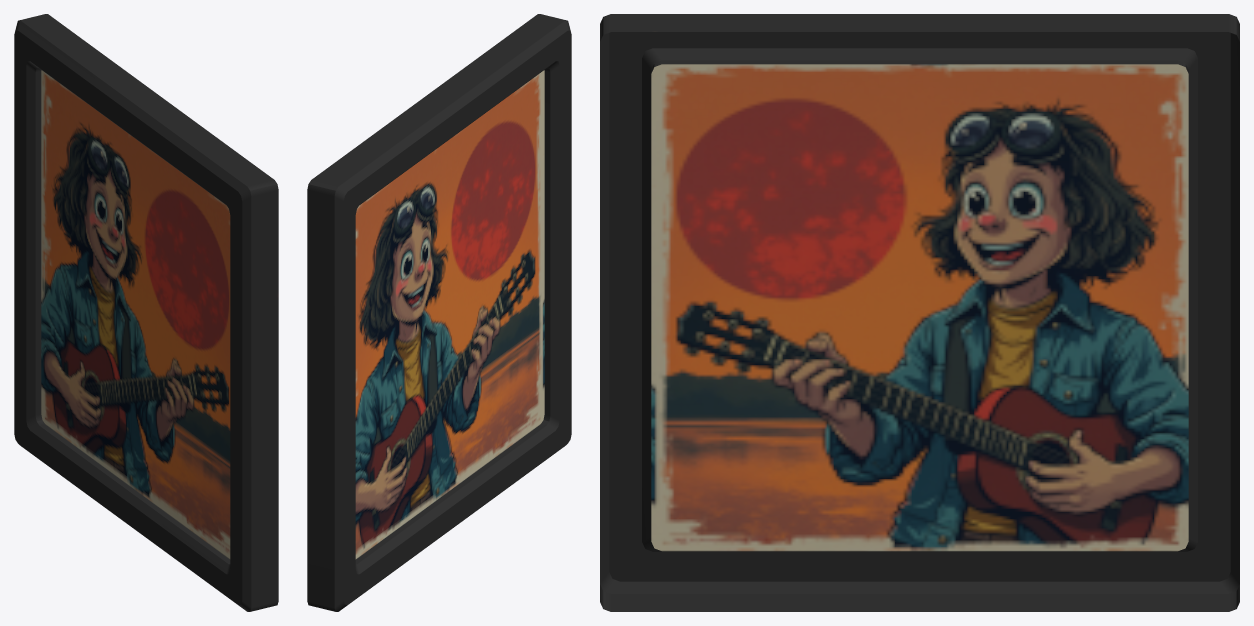
The model's file is SM_Frame.fbx.
The picture shows the model from 3 angles, left to right: view 1: azimuth 30°, elevation 25°; view 2: azimuth 150°, elevation 25°; view 3: azimuth 270°, elevation 25°; orthographic projection. The views are drawn at different scales.
Parts seen in each view (by area): view 1: SM_Frame_LOD0; view 2: SM_Frame_LOD0; view 3: SM_Frame_LOD0.
Boxes of the visible parts, <box> form: SM_Frame_LOD0: <box>14,14,278,611</box>; SM_Frame_LOD0: <box>307,14,571,611</box>; SM_Frame_LOD0: <box>600,14,1239,611</box>.
Bounding box in the file's own units: 4.08 × 50 × 50.
Materials: 1 (1 with a texture image).
